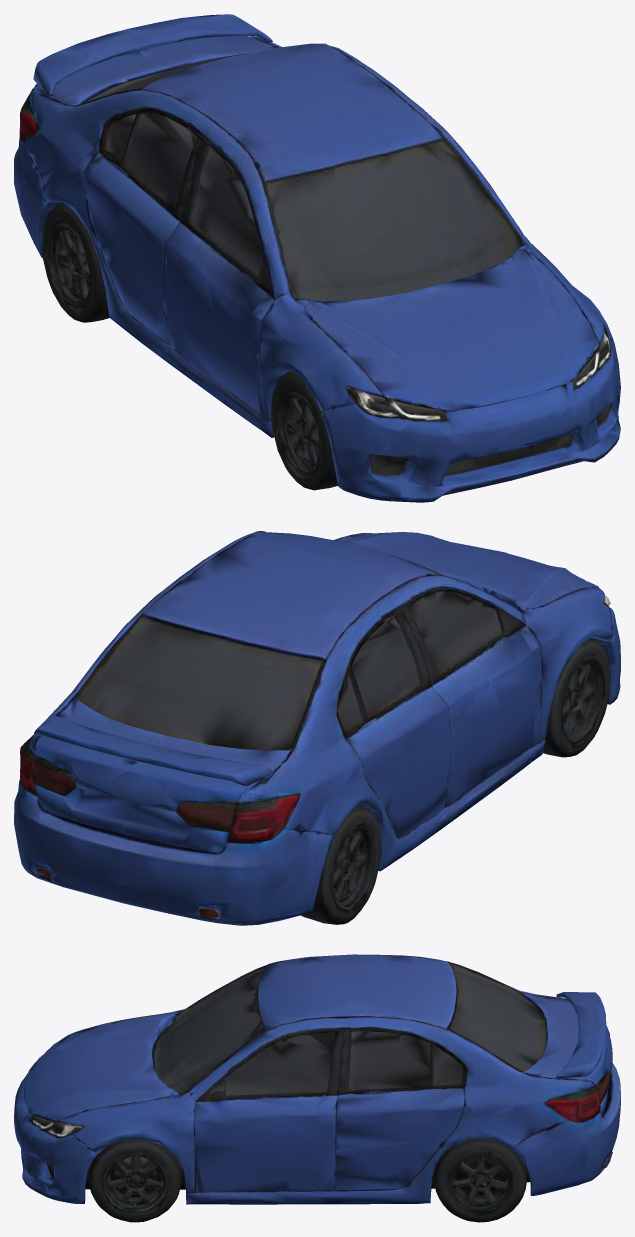
Rendered from comet.glb.
The picture shows the model from 3 angles, top to bottom: view 1: azimuth 30°, elevation 25°; view 2: azimuth 150°, elevation 25°; view 3: azimuth 270°, elevation 25°; orthographic projection. The views are drawn at different scales.
Visible parts, largest first — view 1: tripo_node_4cc463ec-78e7-4830-afd0-76881c530874; view 2: tripo_node_4cc463ec-78e7-4830-afd0-76881c530874; view 3: tripo_node_4cc463ec-78e7-4830-afd0-76881c530874.
Boxes of the visible parts, box(x1,y1,x2,y2) form: tripo_node_4cc463ec-78e7-4830-afd0-76881c530874: box(14, 14, 620, 502); tripo_node_4cc463ec-78e7-4830-afd0-76881c530874: box(14, 531, 620, 925); tripo_node_4cc463ec-78e7-4830-afd0-76881c530874: box(14, 954, 620, 1222).
Size of the model in its own units: 0.4079 by 0.3397 by 0.9802.
Materials: 1 (1 with a texture image).
